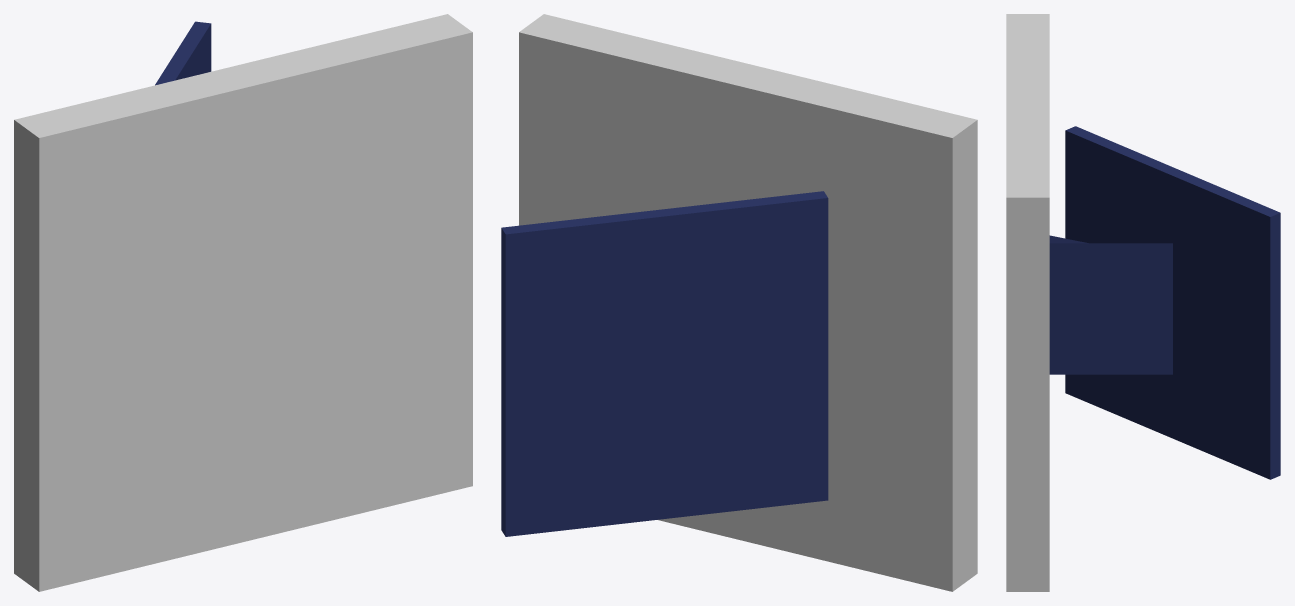
The model's file is solarpower.fbx.
3 renders of one model, left to right at view 1: azimuth 30°, elevation 25°; view 2: azimuth 150°, elevation 25°; view 3: azimuth 270°, elevation 25°, orthographic. The views are drawn at different scales.
Parts seen in each view (by area): view 1: 立方体; view 2: 立方体; view 3: 立方体.
Part boxes in pixels (<box>): 立方体: <box>14,14,472,591</box>; 立方体: <box>501,14,977,591</box>; 立方体: <box>1006,14,1280,591</box>.
Size of the model in its own units: 300 by 300 by 189.
